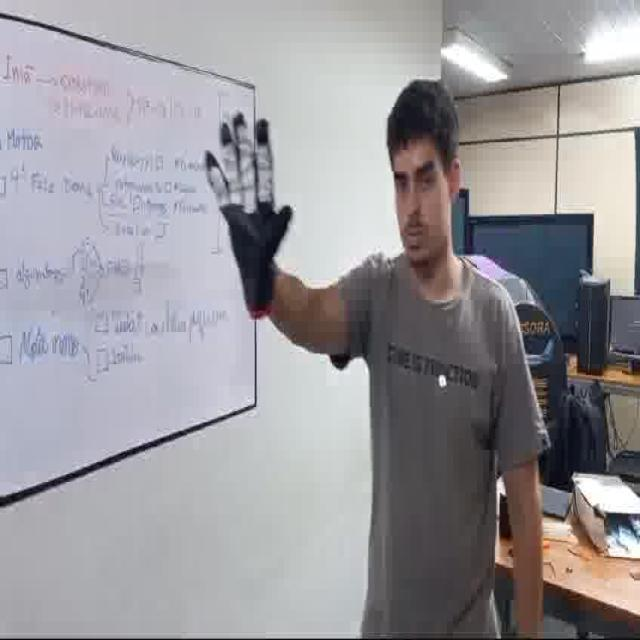Gloves: (202, 105, 296, 317)
